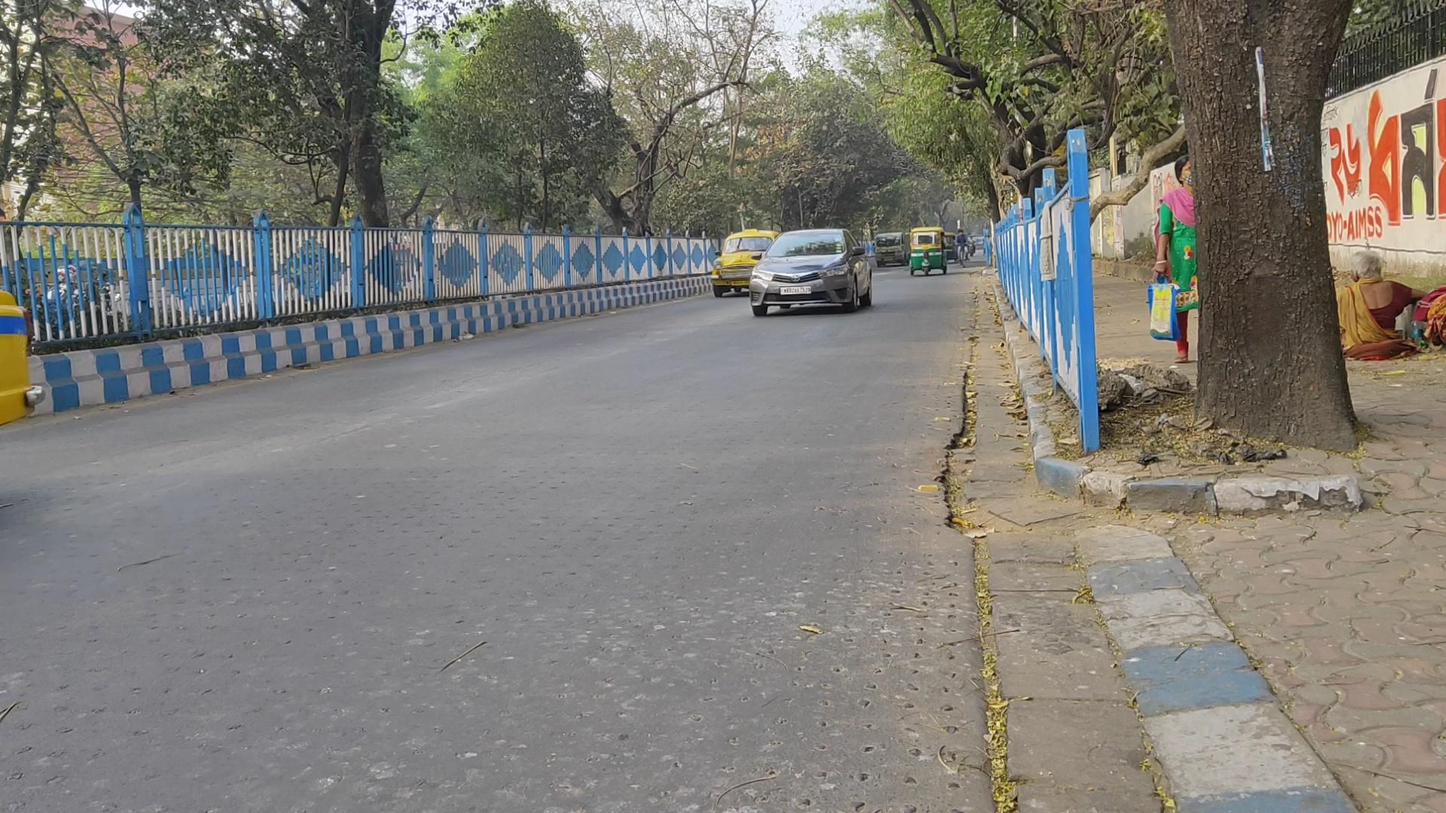Auto: (905, 227, 947, 276)
bike: (955, 229, 970, 269)
car: (749, 229, 875, 318), (712, 229, 781, 300)
van: (872, 230, 911, 268)
